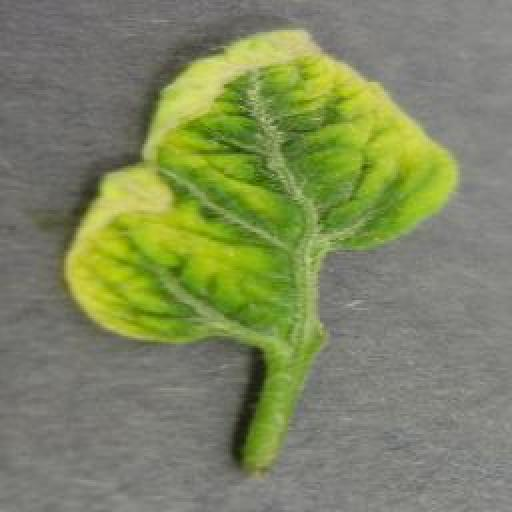disease_tomato: (62, 30, 456, 346)
